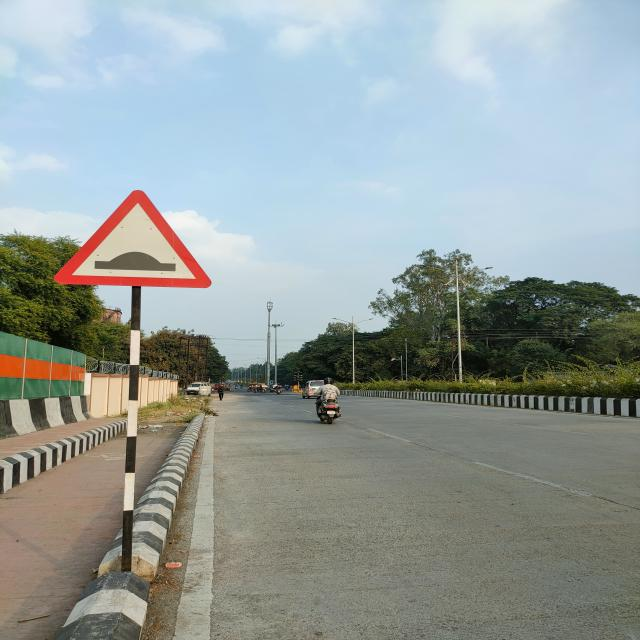horn_prohibited: (54, 190, 210, 289)
